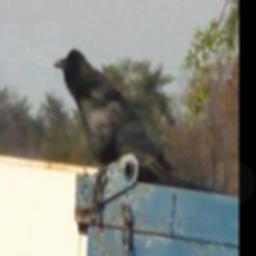Crow: (52, 46, 172, 179)
